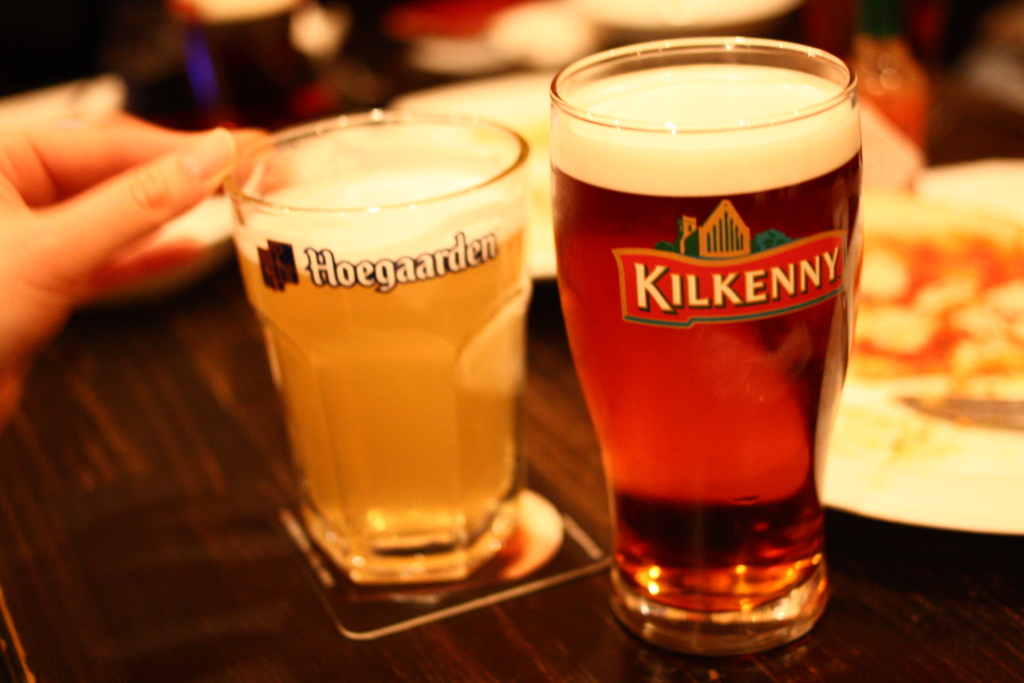Beer: (549, 34, 879, 647), (231, 146, 526, 576)
